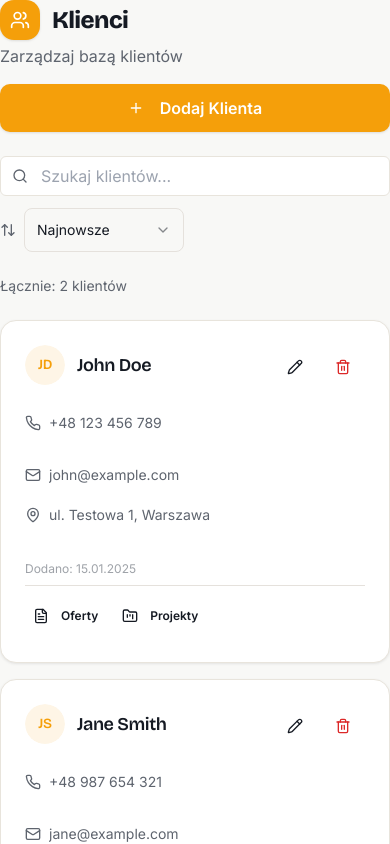
Clients › Add Client button and modal › should open modal when "Add Client" button is clicked
Click the button "Dodaj Klienta". click: (195, 108)
box: [0,84,389,132]
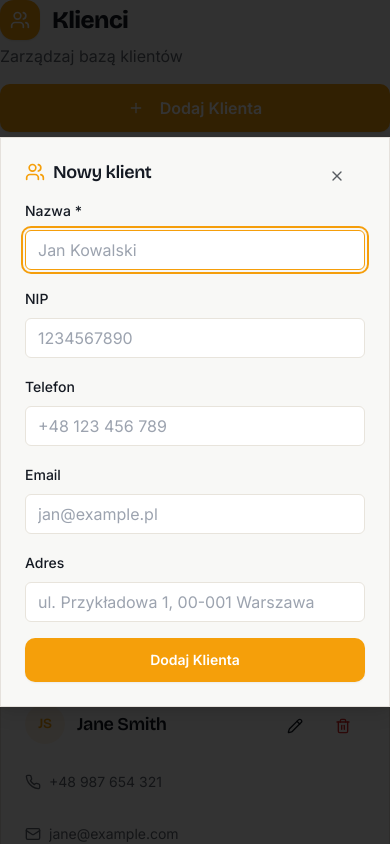
Result: the heading "Nowy klient" is shown at [25,161,151,183]
